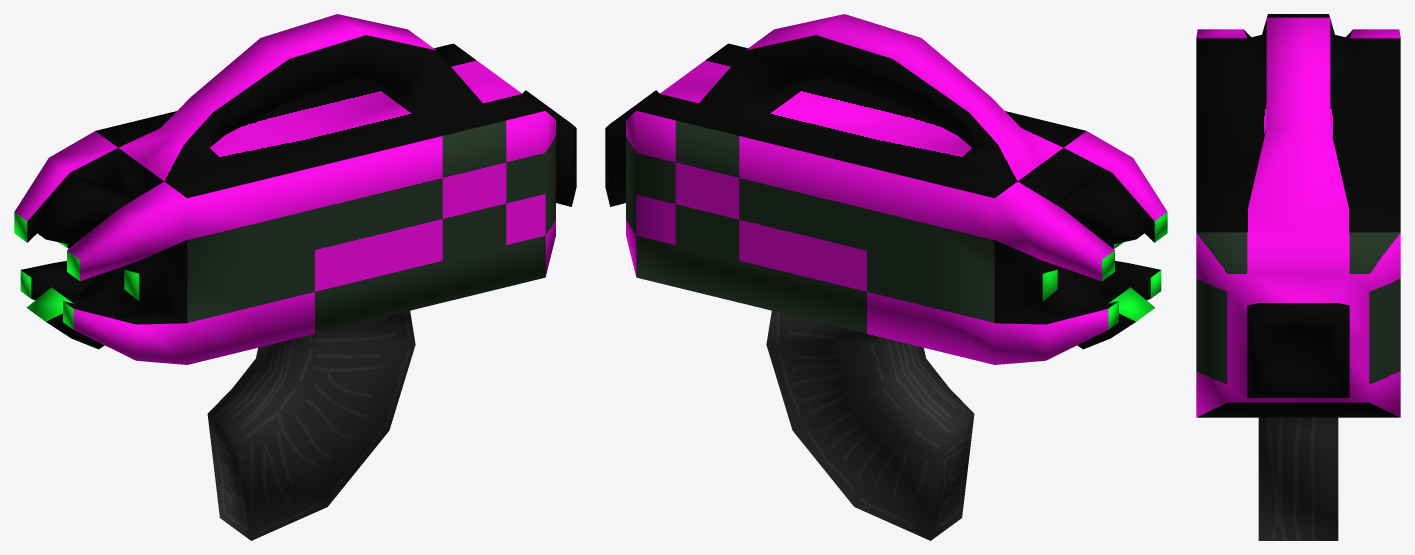
Rendered from robotCannon.glb.
3 views of the same model, side by side, from view 1: azimuth 30°, elevation 25°; view 2: azimuth 150°, elevation 25°; view 3: azimuth 270°, elevation 25° (orthographic). The views are drawn at different scales.
Visible parts, largest first — view 1: robotCannon; view 2: robotCannon; view 3: robotCannon.
Part boxes in pixels (x1,y1,x2,y2): robotCannon: (14, 14, 576, 540); robotCannon: (605, 14, 1167, 540); robotCannon: (1196, 14, 1400, 540).
Size of the model in its own units: 1.83 by 1.59 by 0.557.
1 material, 1 textured.
